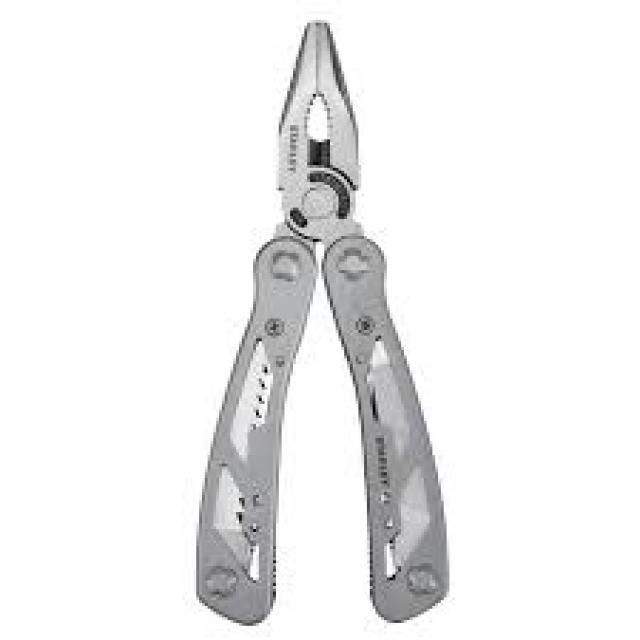pliers: (186, 16, 462, 627)
